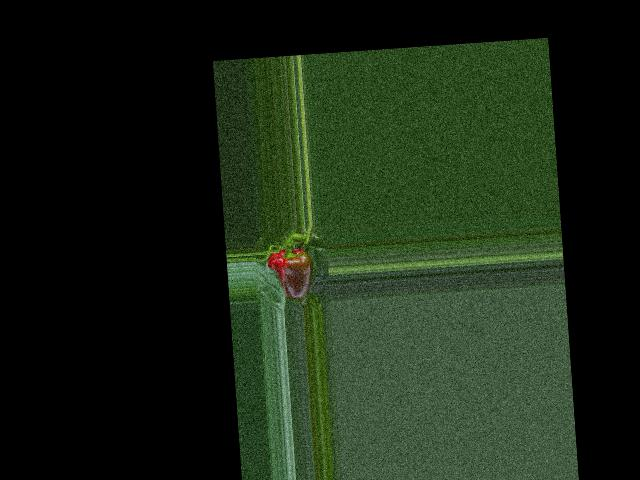bell_pepper: (264, 240, 319, 304)
